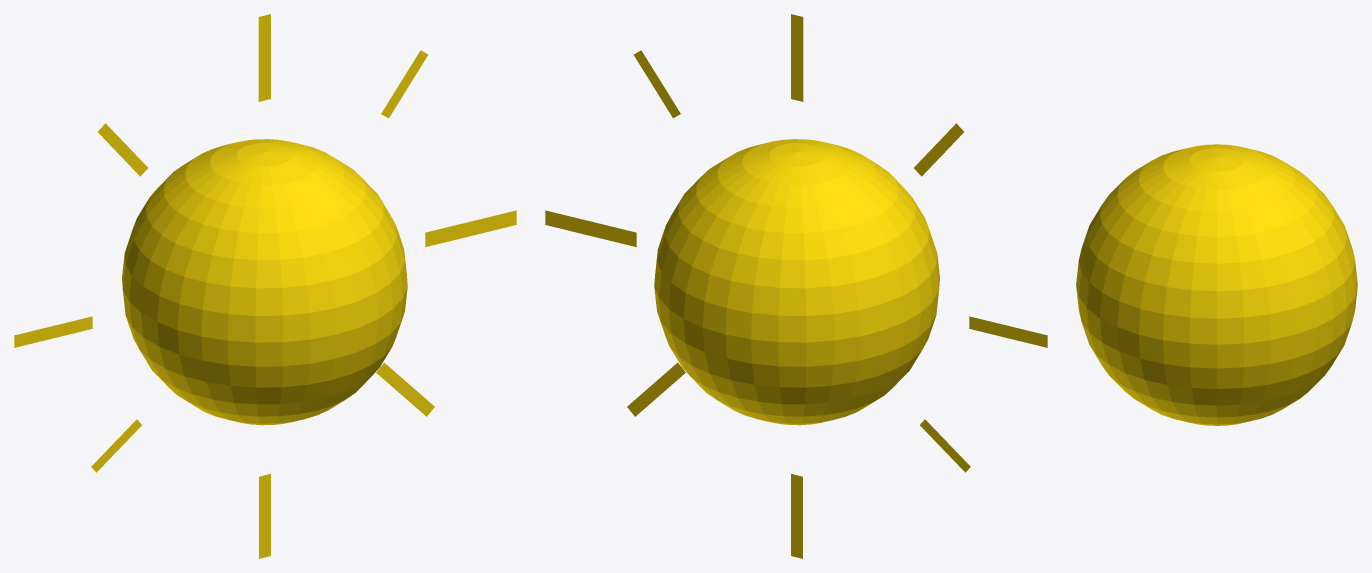
Rendered from sun.glb.
3 views of the same model, side by side, from view 1: azimuth 30°, elevation 25°; view 2: azimuth 150°, elevation 25°; view 3: azimuth 270°, elevation 25° (orthographic).
Parts seen in each view (by area): view 1: Sphere, Plane.002, Plane.001, Plane.003, Plane, Plane.004, Plane.007, Plane.005; view 2: Sphere, Plane.002, Plane.001, Plane.003, Plane, Plane.004, Plane.007, Plane.005; view 3: Sphere.
Part boxes in pixels (<box>): Sphere: <box>122,139,407,425</box>; Plane.002: <box>425,210,516,246</box>; Plane.001: <box>258,14,270,101</box>; Plane.003: <box>14,316,92,347</box>; Plane: <box>259,474,270,558</box>; Plane.004: <box>376,362,434,416</box>; Plane.007: <box>98,123,147,176</box>; Plane.005: <box>381,50,428,118</box>; Sphere: <box>654,139,939,425</box>; Plane.002: <box>545,210,636,246</box>; Plane.001: <box>791,14,803,101</box>; Plane.003: <box>969,316,1047,347</box>; Plane: <box>791,474,802,558</box>; Plane.004: <box>627,362,685,416</box>; Plane.007: <box>914,123,963,176</box>; Plane.005: <box>633,50,680,118</box>; Sphere: <box>1076,144,1357,425</box>.
Bounding box in the file's own units: 4.05 × 4.18 × 2.
